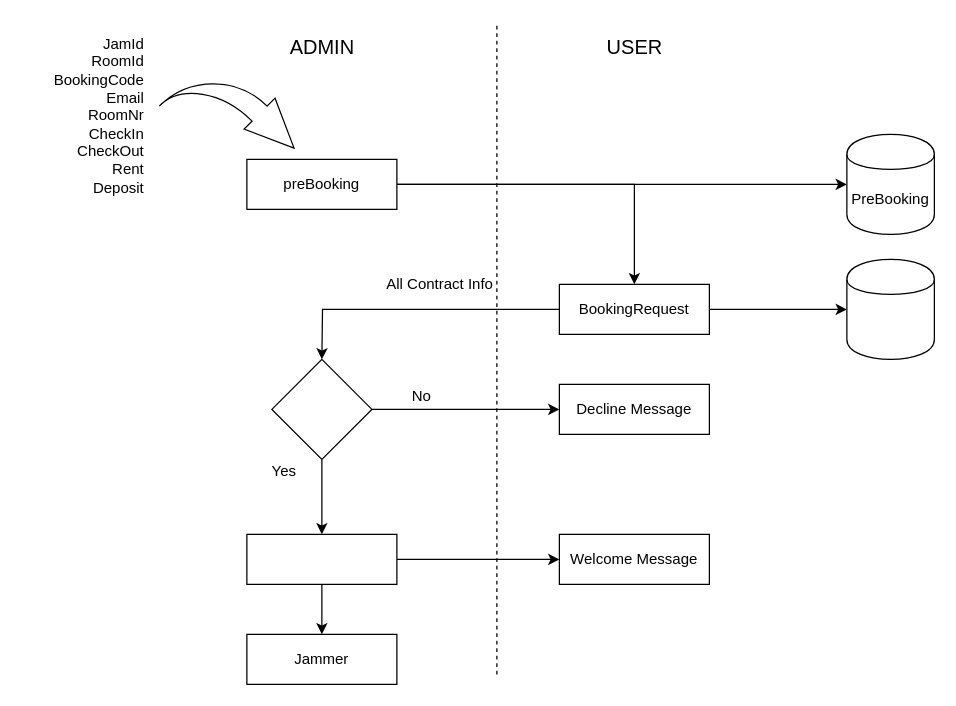
Some shapes in this 956 by 706 pixel diagram are drawn without their labels. The box of each missing label's shape, as (x1, y1, x2, y2) in pixels:
Accept ?: (271, 358, 372, 459)
Bookings: (846, 258, 934, 359)
Contract: (246, 533, 397, 584)
